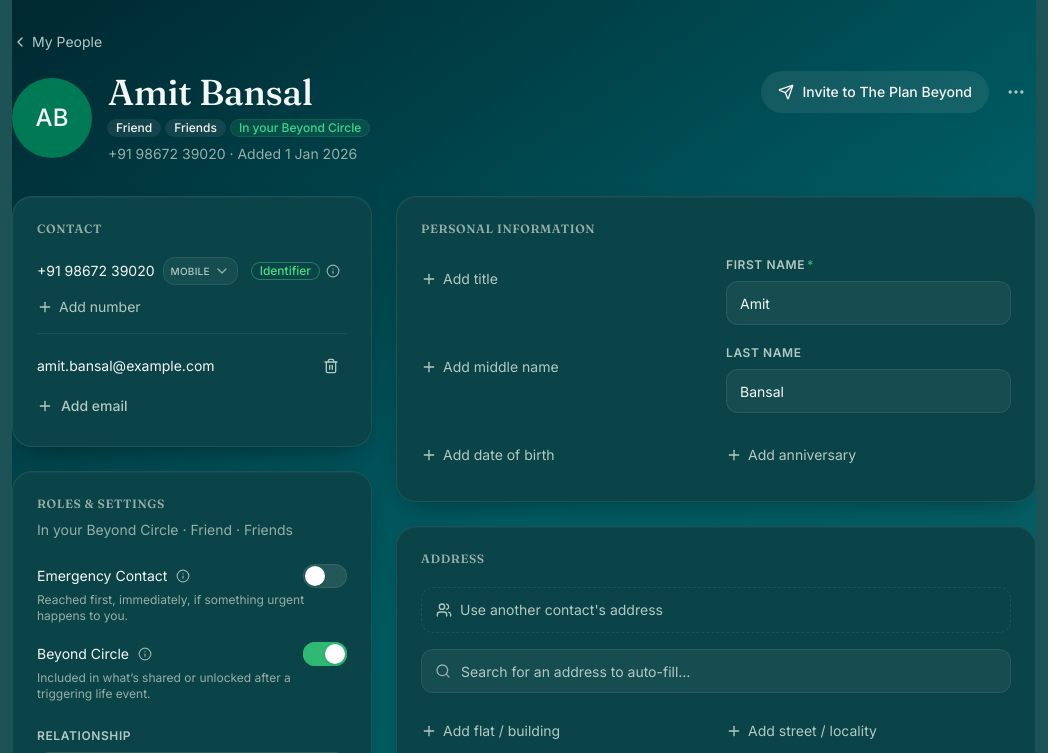
Test: ContactDetailPage (integration) › reveals the unsaved bar after an edit and hides it after save
Expected: the heading "Amit Bansal" is shown, 108,70 -> 313,114
Expected: the element "unsaved changes" is not shown
Click the button "Add middle name": (458, 366) 421,345 -> 706,389
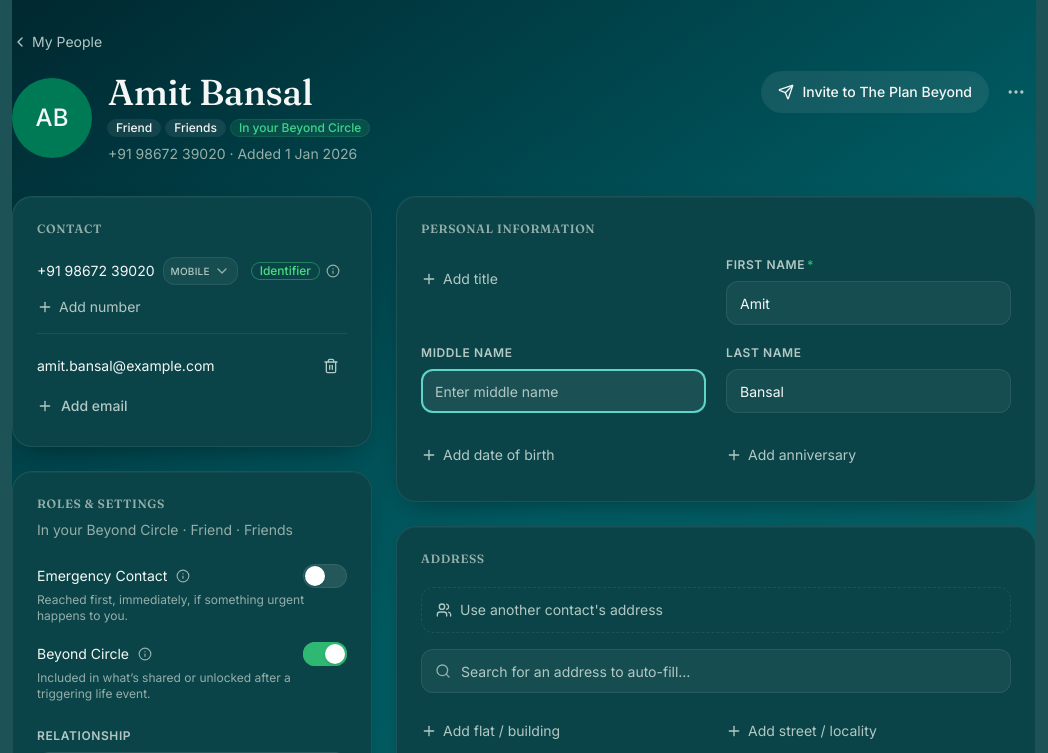
In the field labelled "Middle name": (564, 391) 421,369 -> 706,413, type "Kumar"
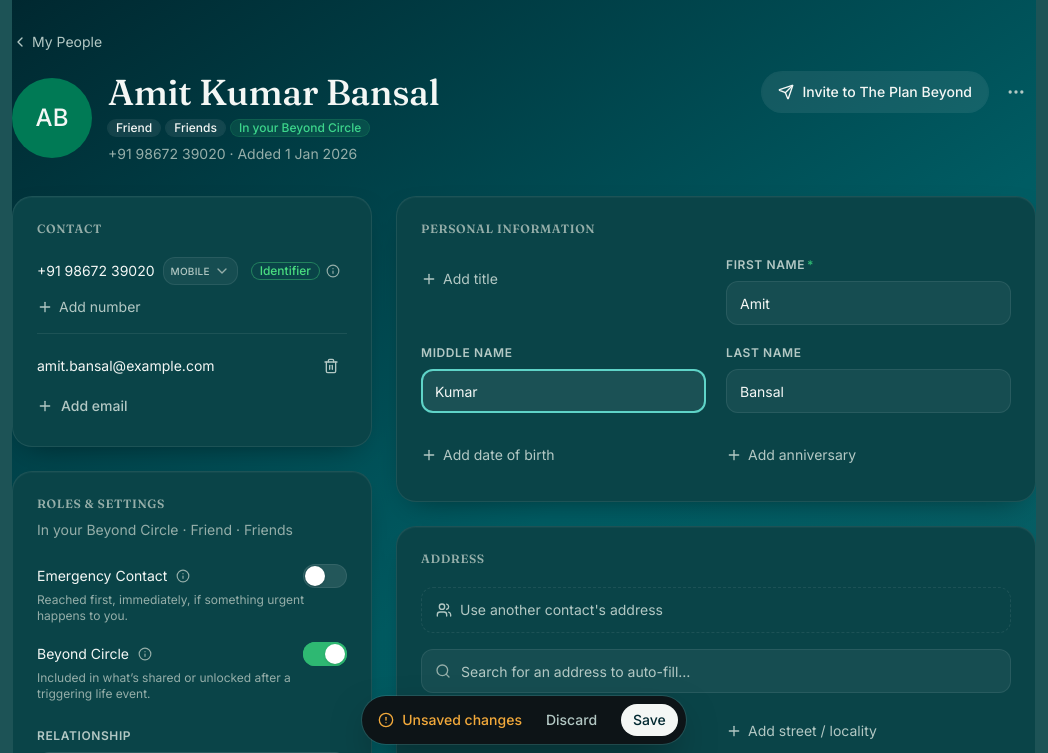
Result: the element "Unsaved changes Discard Save" is shown at 362,696 -> 686,744
Click the button "Save": (650, 720) 621,704 -> 678,736
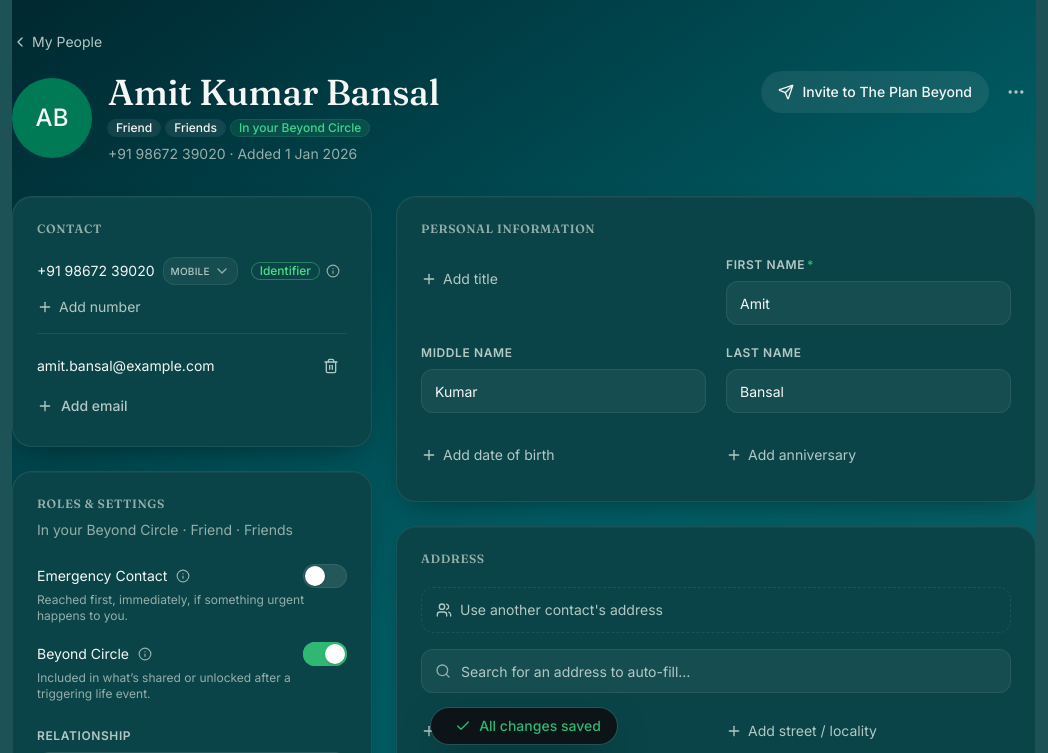
Result: the element "Unsaved changes" is gone
